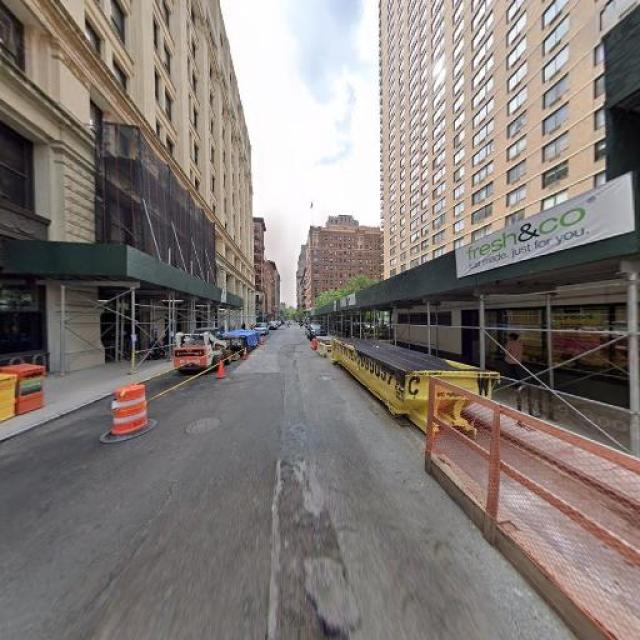Building: (383, 1, 640, 385), (1, 1, 250, 393)
